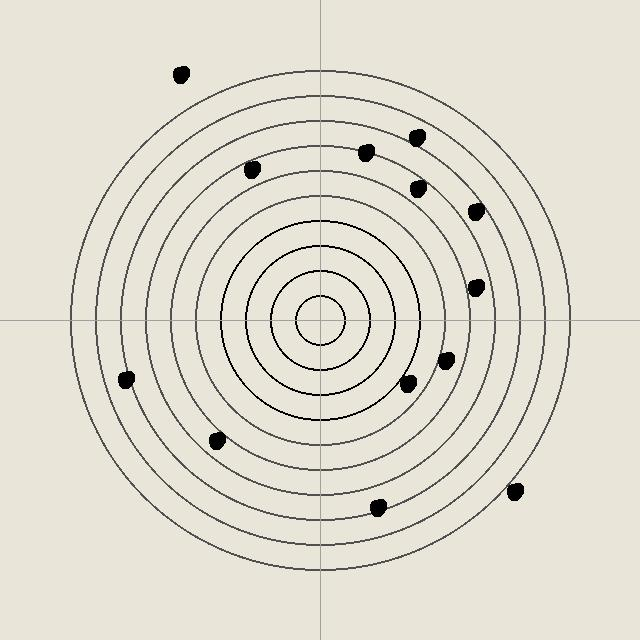random_scatter: (435, 350, 455, 370), (504, 481, 524, 501), (170, 64, 190, 84), (367, 497, 387, 517), (241, 159, 261, 179), (206, 430, 226, 450), (397, 373, 417, 393), (407, 178, 427, 198), (465, 277, 485, 297), (406, 127, 426, 147), (115, 369, 135, 389), (465, 201, 485, 221), (355, 142, 375, 162)
